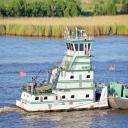tugboat: (16, 26, 112, 117)
